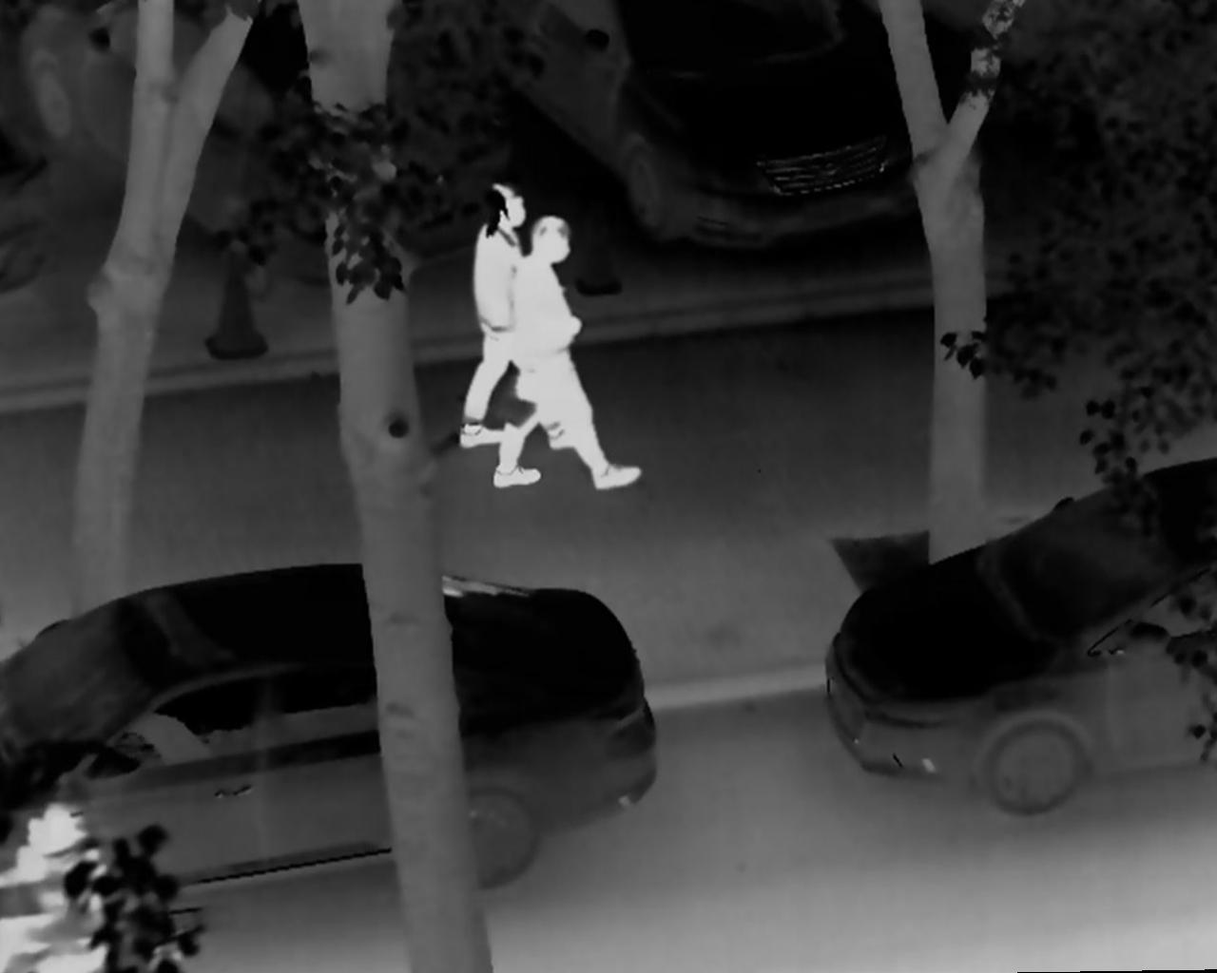person: (491, 214, 644, 493), (459, 178, 576, 455)
